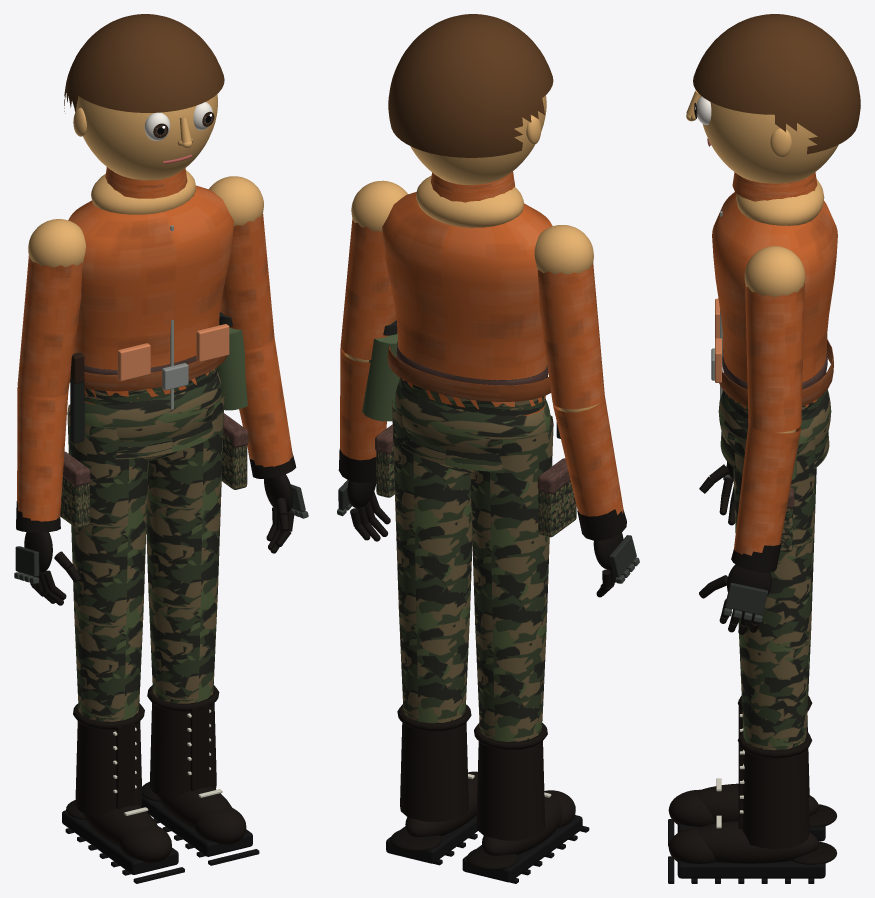
Rendered from 06-gourde-et-couteau.glb.
3 renders of one model, left to right at view 1: azimuth 30°, elevation 25°; view 2: azimuth 150°, elevation 25°; view 3: azimuth 270°, elevation 25°, orthographic. The views are drawn at different scales.
Size of the model in its own units: 0.6344 by 1.77 by 0.3715.
30 materials, 5 textured.
